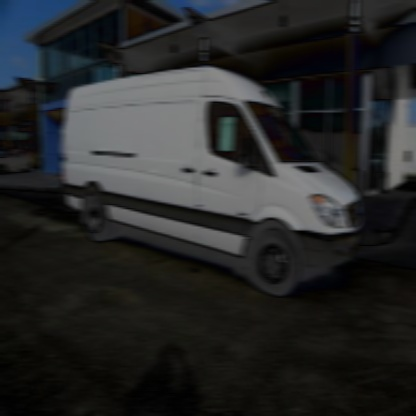Vehicle: (60, 64, 364, 298)
